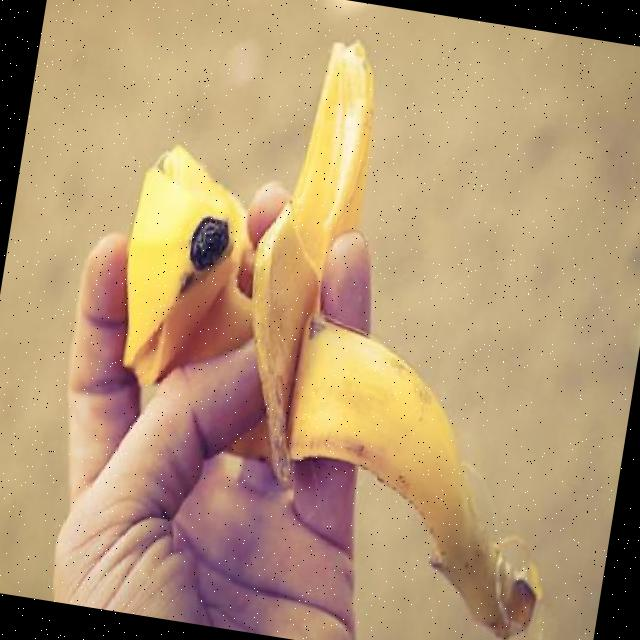banana-peel: (75, 8, 624, 640), (218, 28, 390, 493)
